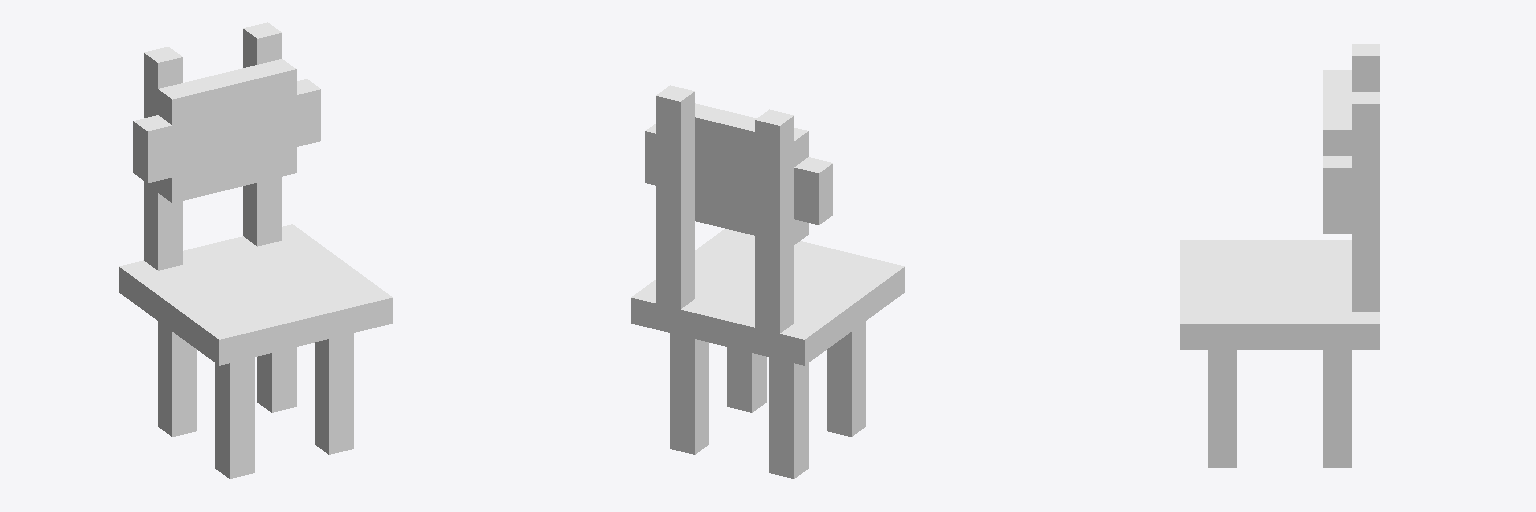
The model's file is chair_2.obj.
3 views of the same model, side by side, from view 1: azimuth 30°, elevation 25°; view 2: azimuth 150°, elevation 25°; view 3: azimuth 270°, elevation 25° (orthographic).
Visible parts, largest first — view 1: object 1; view 2: object 1; view 3: object 1.
Boxes of the visible parts, box(x1,y1,x2,y2) form: object 1: box(119, 22, 392, 478); object 1: box(631, 85, 904, 478); object 1: box(1180, 44, 1379, 467).
Bounding box in the file's own units: 0.7 × 1.4 × 0.7.